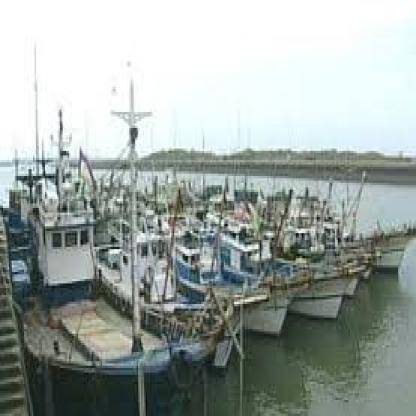fish-b: (104, 190, 347, 388), (8, 146, 174, 391), (184, 153, 414, 322)
